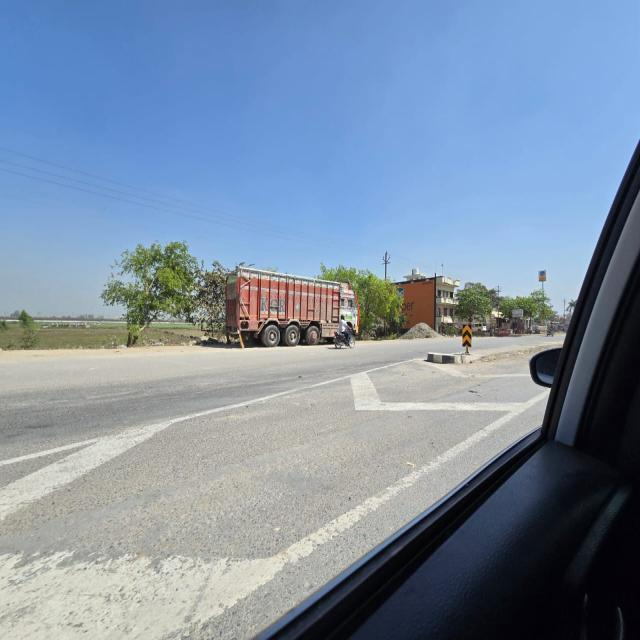uncovered: (222, 270, 334, 338)
